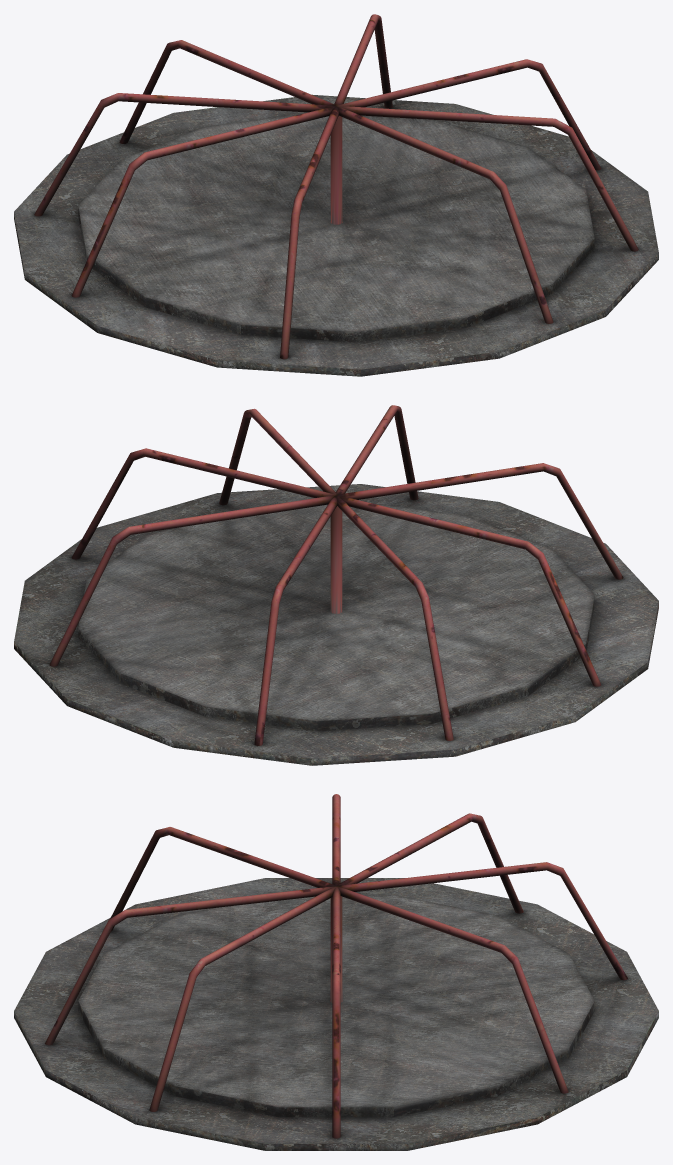
The model's file is RoundAbout.fbx.
3 renders of one model, top to bottom at view 1: azimuth 30°, elevation 25°; view 2: azimuth 150°, elevation 25°; view 3: azimuth 270°, elevation 25°, orthographic.
Parts seen in each view (by area): view 1: Cylinder_001; view 2: Cylinder_001; view 3: Cylinder_001.
Boxes of the visible parts, x1,y1,x2,y2 form: Cylinder_001: [14, 14, 658, 376]; Cylinder_001: [14, 405, 658, 765]; Cylinder_001: [14, 794, 658, 1150].
Bounding box in the file's own units: 4.6 × 1.06 × 4.72.
